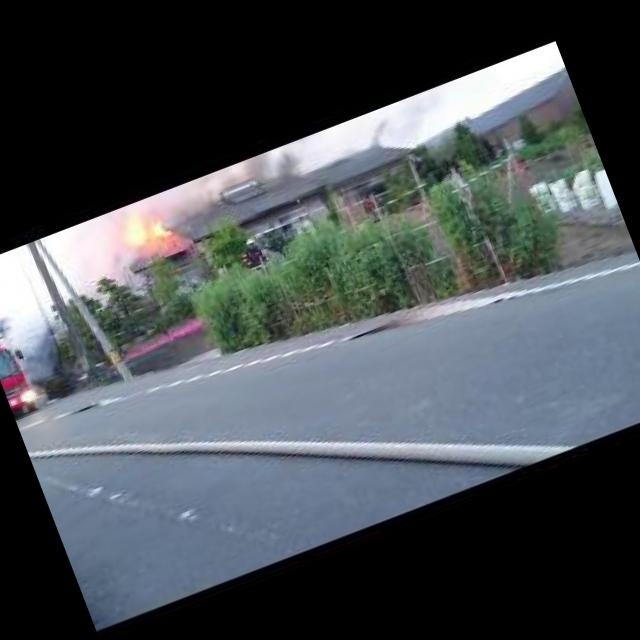fire: (116, 206, 168, 250)
smoke: (150, 140, 316, 238), (356, 112, 392, 156)
